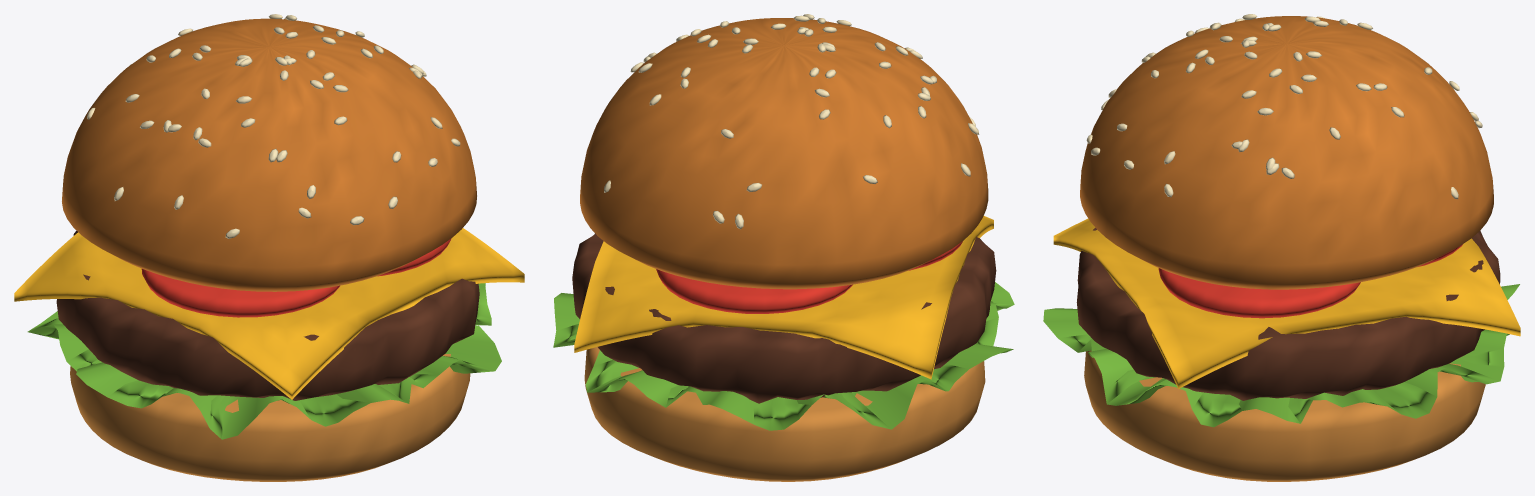
Rendered from burger.glb.
3 renders of one model, left to right at view 1: azimuth 30°, elevation 25°; view 2: azimuth 150°, elevation 25°; view 3: azimuth 270°, elevation 25°, orthographic.
Size of the model in its own units: 0.1255 by 0.1056 by 0.1245.
